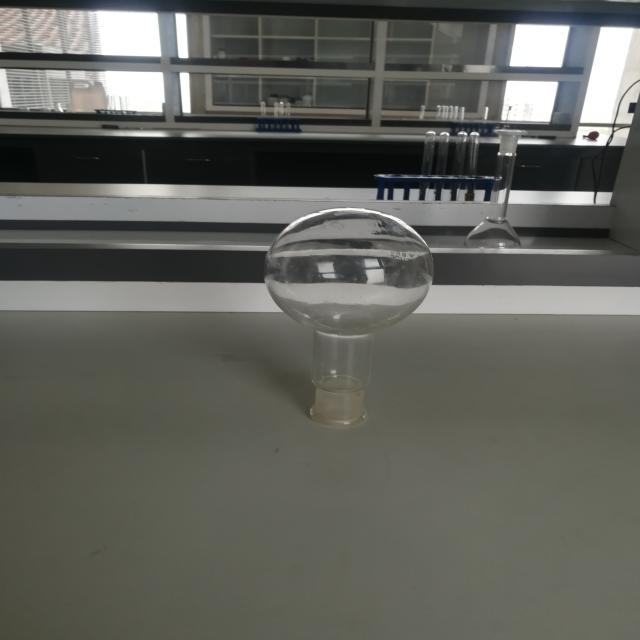Round_Bottom_Flask_Borosilicate_Glass_1_Neck: (222, 186, 461, 440)
